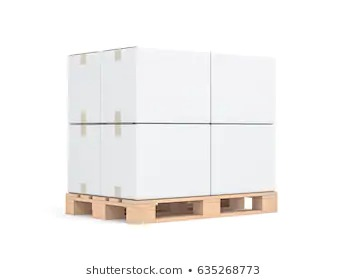pallet: (98, 123, 214, 196), (100, 50, 214, 124), (219, 49, 284, 126), (219, 123, 283, 193), (62, 47, 101, 128), (60, 127, 95, 196)
unit_load: (66, 195, 283, 216)
